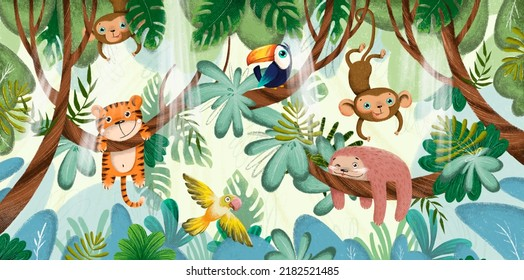animal: (318, 44, 408, 134), (318, 136, 408, 213), (94, 98, 151, 210), (94, 4, 137, 53)
bird: (179, 175, 255, 244), (246, 41, 287, 86)
tree: (409, 8, 524, 189), (1, 2, 88, 238), (182, 1, 354, 41)
